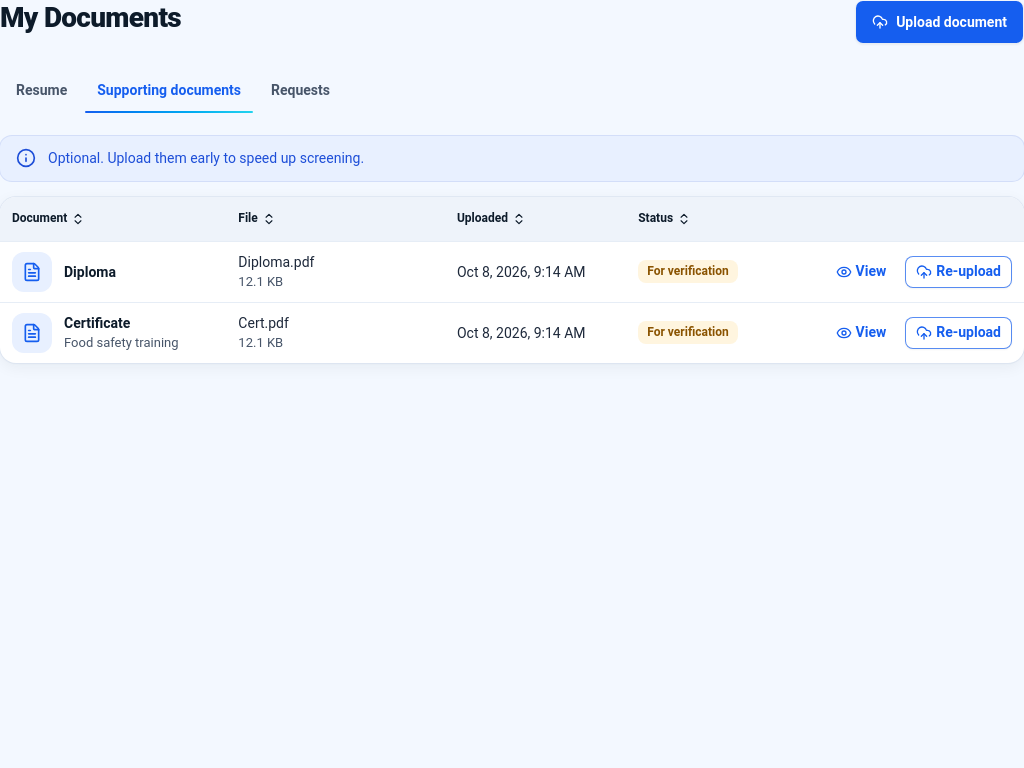
My Documents › decision 29/30/35: the upload dialog offers only Certificate, Diploma, Other and has no helper line
Click the button "Upload document" at (940, 22), box [855,0,1023,44]
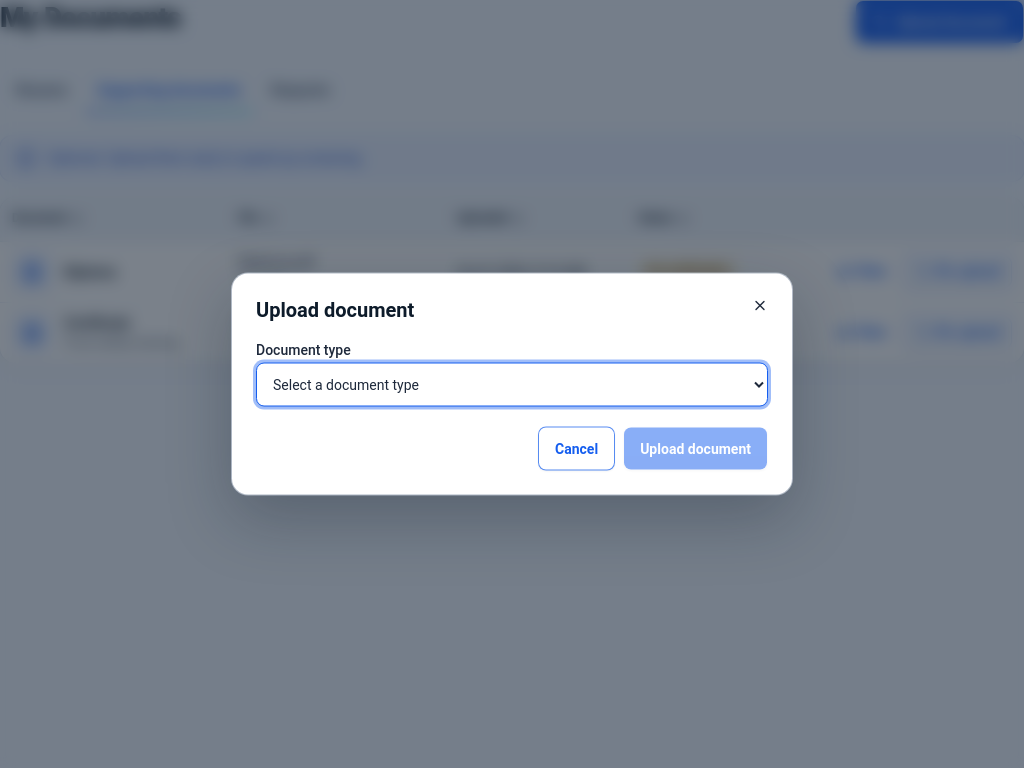
Check: the heading "Upload document" is shown, box [256,298,414,322]
Select "Certificate" in the dropdown labelled "Document type" at (512, 384), box [256,362,768,406]
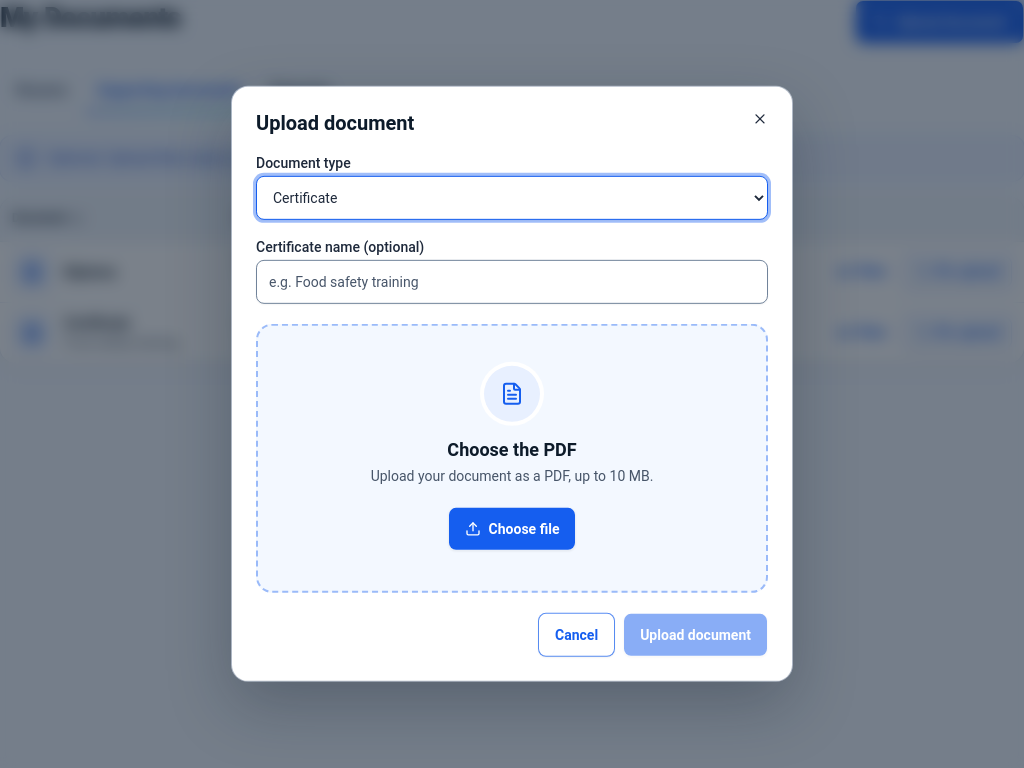
Check: the text "Upload your document as a PDF, up to 10 MB." is shown, box [371,466,653,487]
